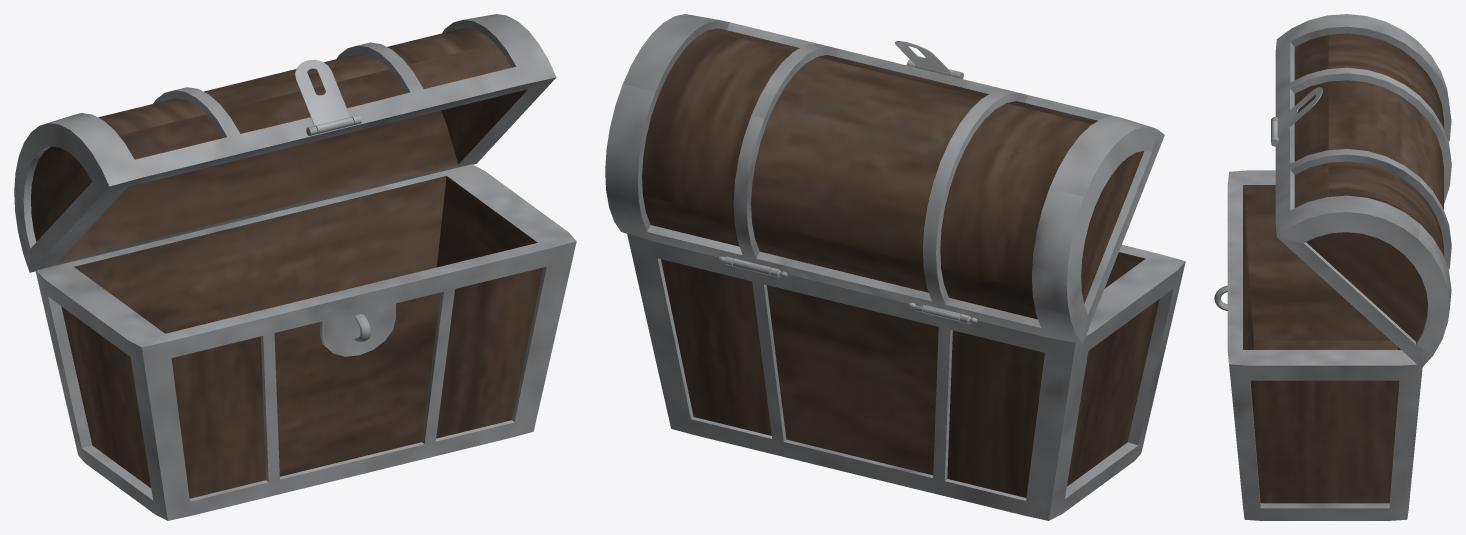
The model's file is chest Open Ver_Texture.fbx.
3 views of the same model, side by side, from view 1: azimuth 30°, elevation 25°; view 2: azimuth 150°, elevation 25°; view 3: azimuth 270°, elevation 25° (orthographic). The views are drawn at different scales.
Visible parts, largest first — view 1: Wood, Iron; view 2: Wood, Iron; view 3: Wood, Iron.
Part boxes in pixels (bbox=[...]): Wood: bbox=[31, 28, 543, 498]; Iron: bbox=[14, 14, 576, 520]; Wood: bbox=[642, 28, 1159, 497]; Iron: bbox=[605, 14, 1185, 520]; Wood: bbox=[1243, 33, 1443, 503]; Iron: bbox=[1214, 14, 1451, 520].
Size of the model in its own units: 506 by 412 by 254.
1 material, 1 textured.
